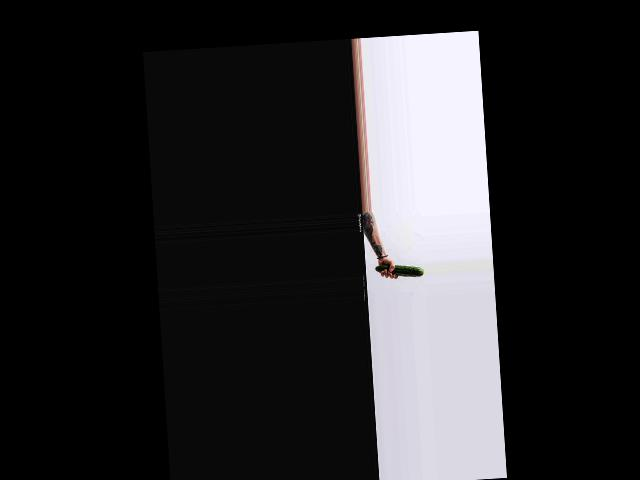cucumber: (375, 262, 424, 279)
